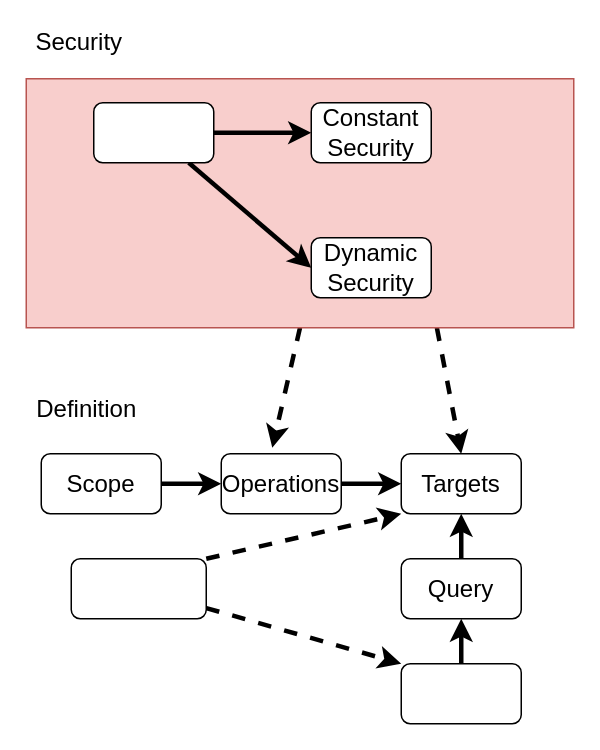
Some shapes in this 600 by 750 pixel diagram are drawn without their labels. The shapes that lost their labels are listed below. From the top down, each one's centre as x and y in pixels, then its label:
At (153,132): "Directive Source".
At (138,588): "Modifiers".
At (460,693): "Log F()".
